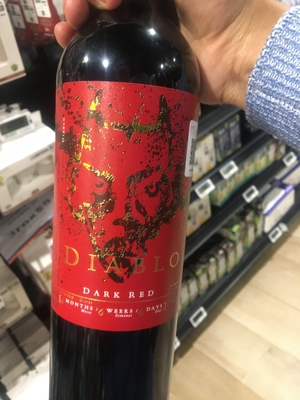diablo dark red: (50, 15, 208, 400)
